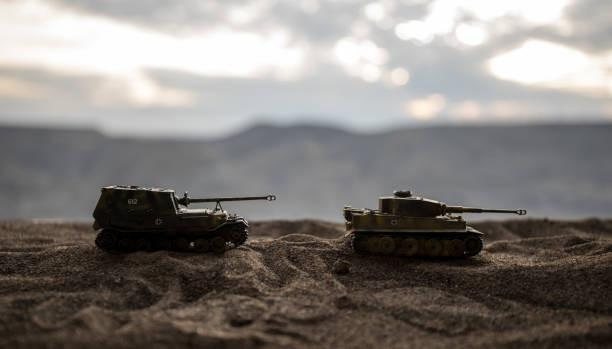tank: (92, 184, 276, 255), (343, 190, 526, 259)
